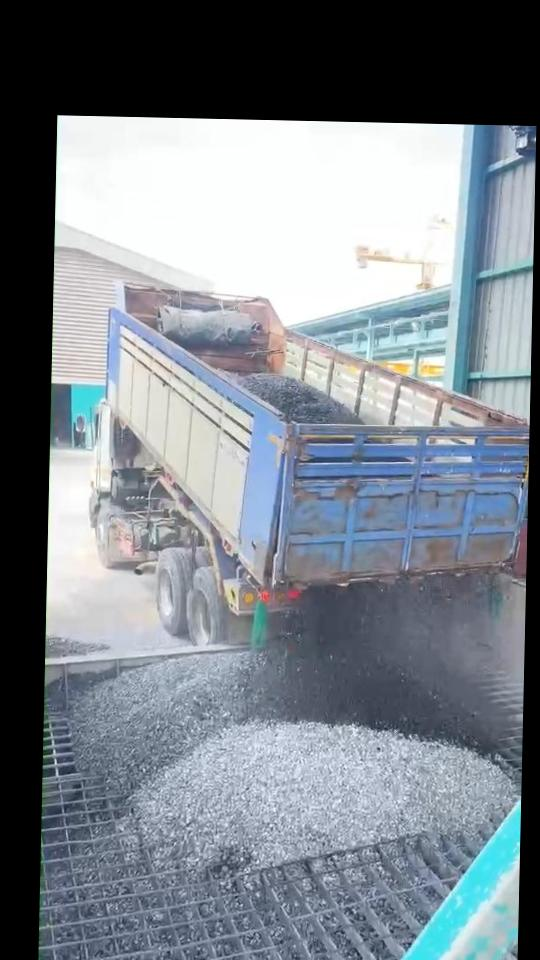gravel: (132, 721, 514, 870), (256, 579, 487, 757), (71, 652, 261, 793), (234, 373, 363, 424), (46, 635, 107, 657)
